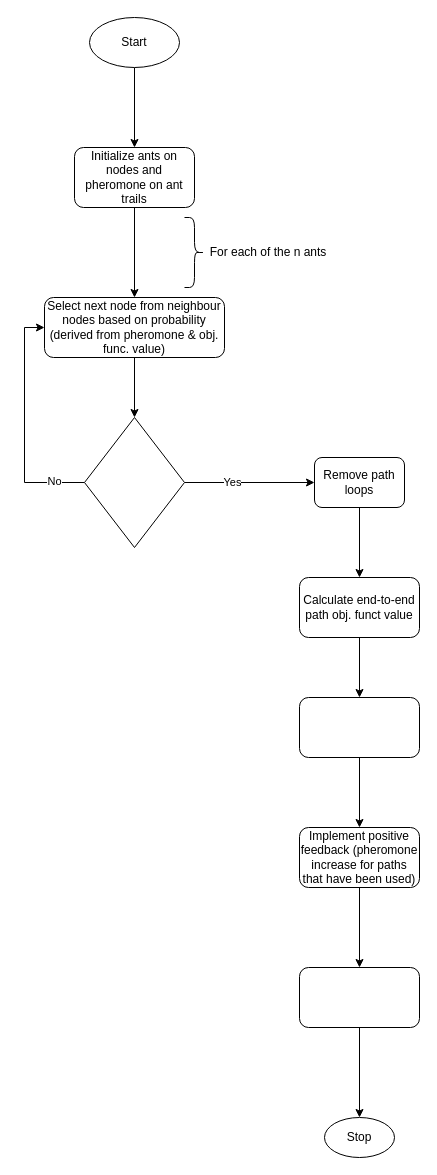
Some shapes in this 437 by 1175 pixel diagram are drawn without their labels. The centre of each missing label's shape, as x and y in pixels:
Implement negative feedback (pheromone evaporation from trails): point 359,727
Is this the destination? (base station): point 134,482
Return the solutions (followed paths and the best among them): point 359,997
